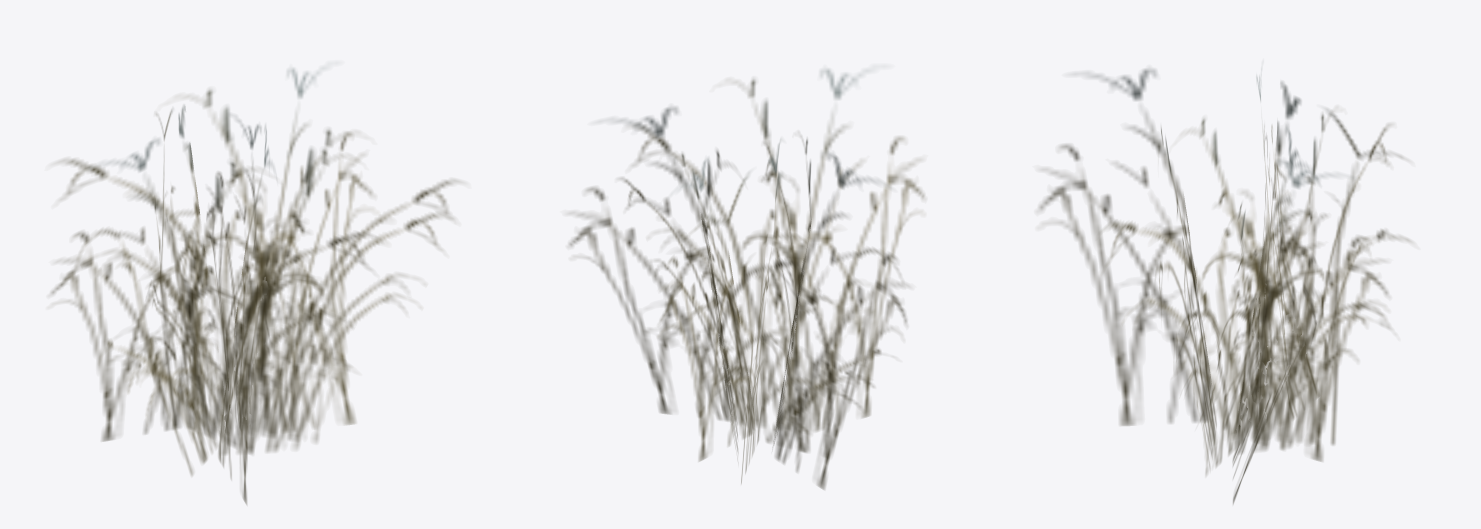
File: ichu_11_nieve.glb
3 views of the same model, side by side, from view 1: azimuth 30°, elevation 25°; view 2: azimuth 150°, elevation 25°; view 3: azimuth 270°, elevation 25° (orthographic). The views are drawn at different scales.
Parts seen in each view (by area): view 1: Ichu; view 2: Ichu; view 3: Ichu.
Boxes of the visible parts, x1,y1,x2,y2 form: Ichu: (51,64,460,504); Ichu: (569,66,924,489); Ichu: (1039,68,1410,503).
Size of the model in its own units: 0.4269 by 0.43 by 0.4123.
1 material, 1 textured.
